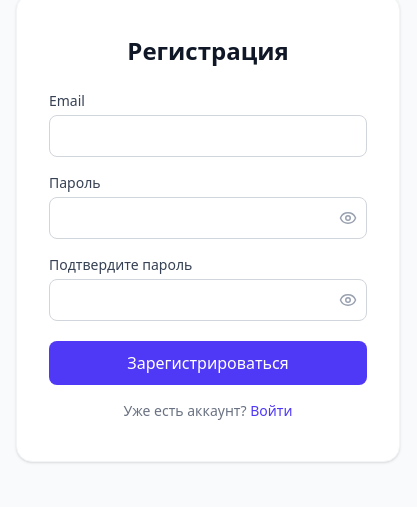
Test case: RegisterPage › показывает ошибку если пароли не совпадают
The image size is (417, 507).
Type "new@test.com" into the field labelled "Email".
click(208, 136); type("new@test.com")  # box [49,115,367,157]
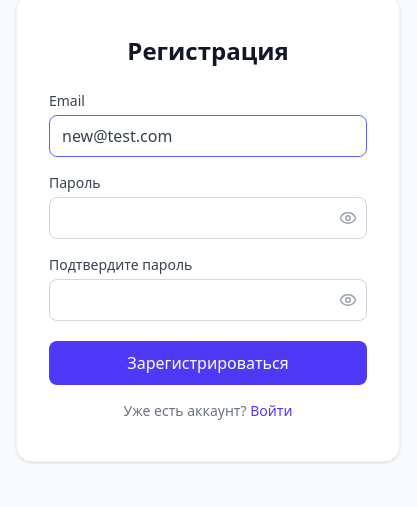
Type "password123" into the password field labelled "Пароль".
click(208, 218); type("password123")  # box [49,197,367,239]
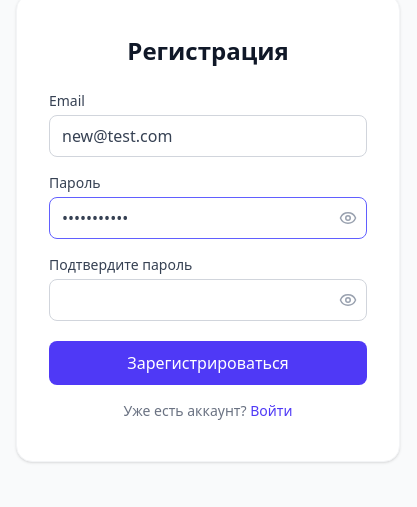
Type "different" into the password field labelled "Подтвердите пароль".
click(208, 300); type("different")  # box [49,279,367,321]
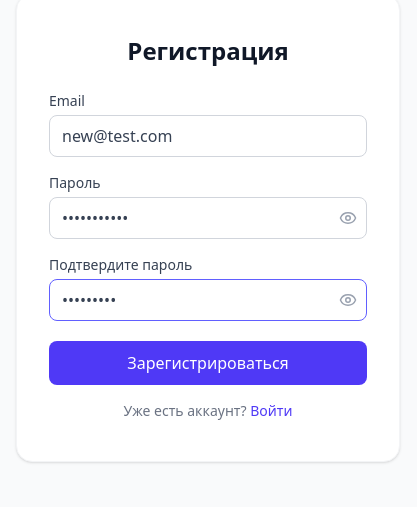
Click the button "Зарегистрироваться".
click(208, 363)  # box [49,341,367,385]
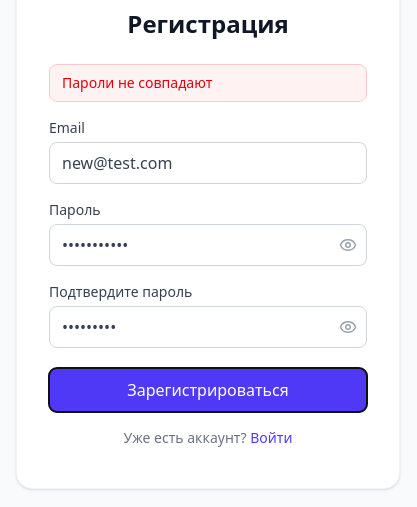
expect the message reads "Пароли не совпадают": met, box [62,73,212,92]
